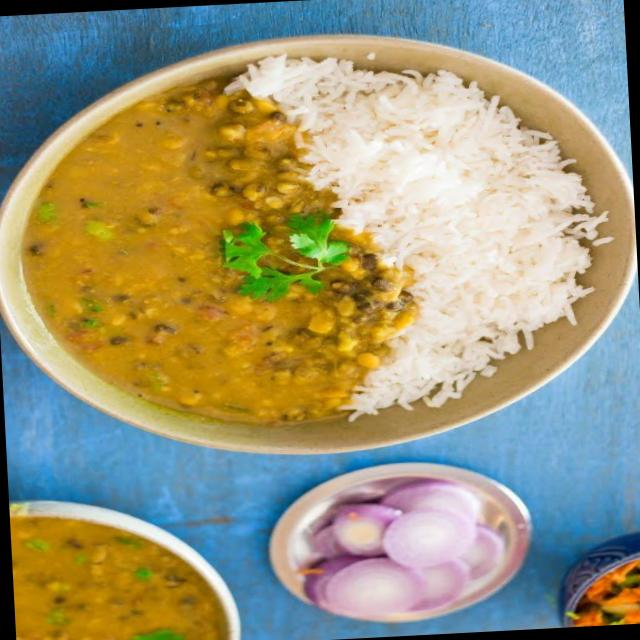dal: (24, 77, 410, 427), (20, 518, 226, 640)
rice: (235, 61, 593, 414)
